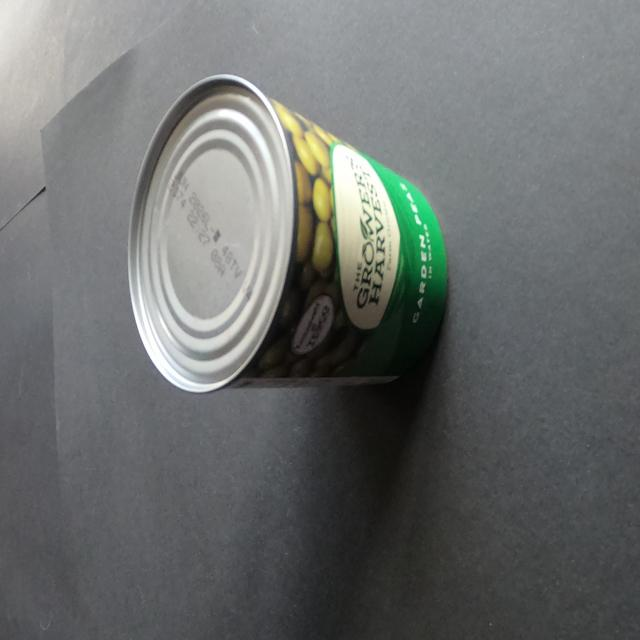Peas: (111, 72, 456, 444)
